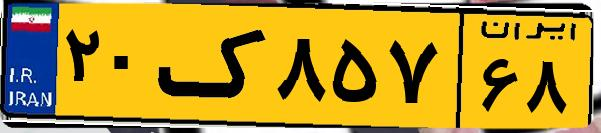0: (110, 28, 158, 98)
2: (57, 26, 110, 100)
5: (330, 28, 385, 110)
6: (475, 38, 525, 113)
7: (385, 28, 445, 110)
8: (270, 28, 330, 110), (525, 38, 570, 115)
ک: (158, 12, 270, 120)
